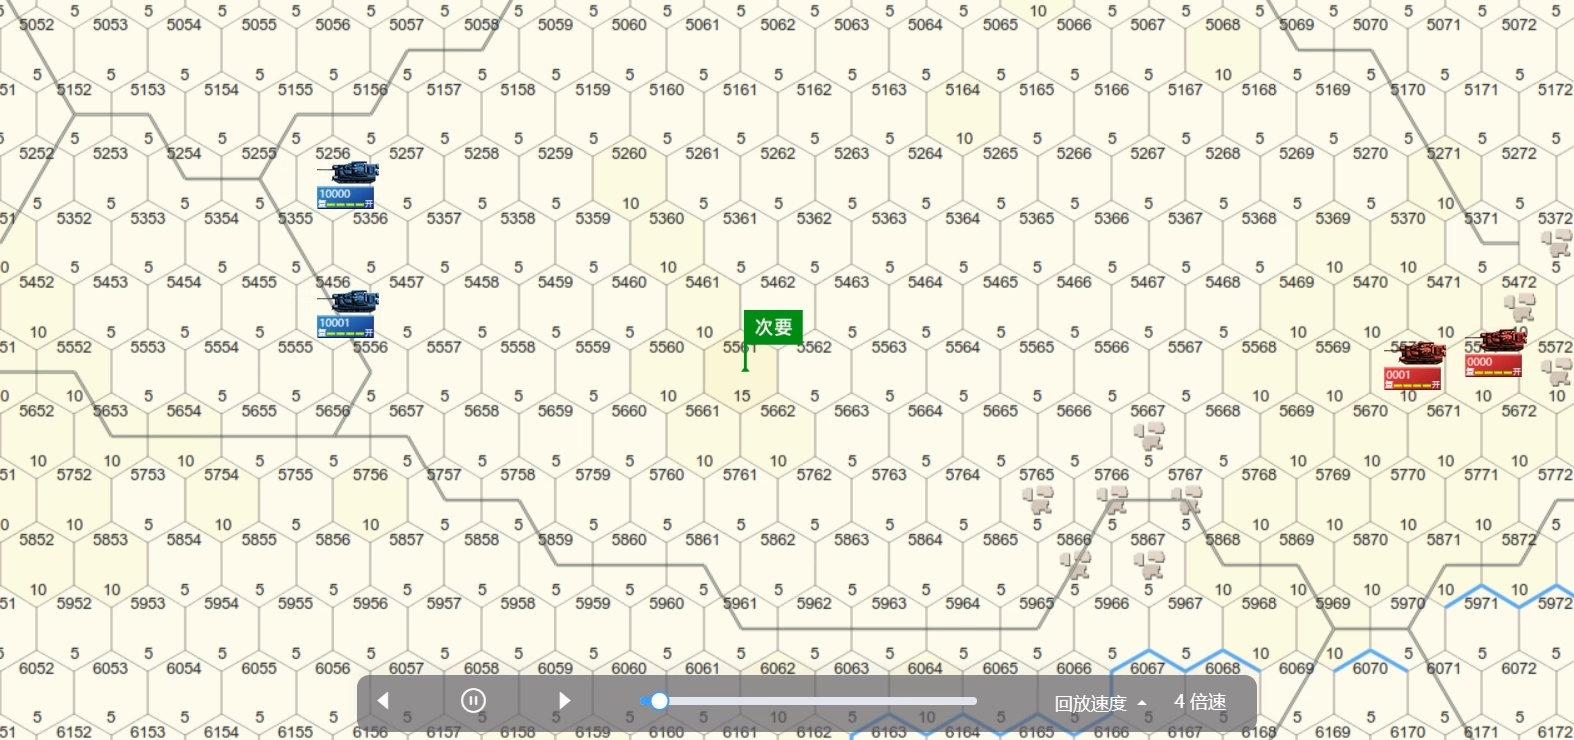blue_tank: (318, 287, 380, 336), (324, 163, 378, 201)
red_tank: (1468, 331, 1530, 382), (1390, 339, 1440, 387)
